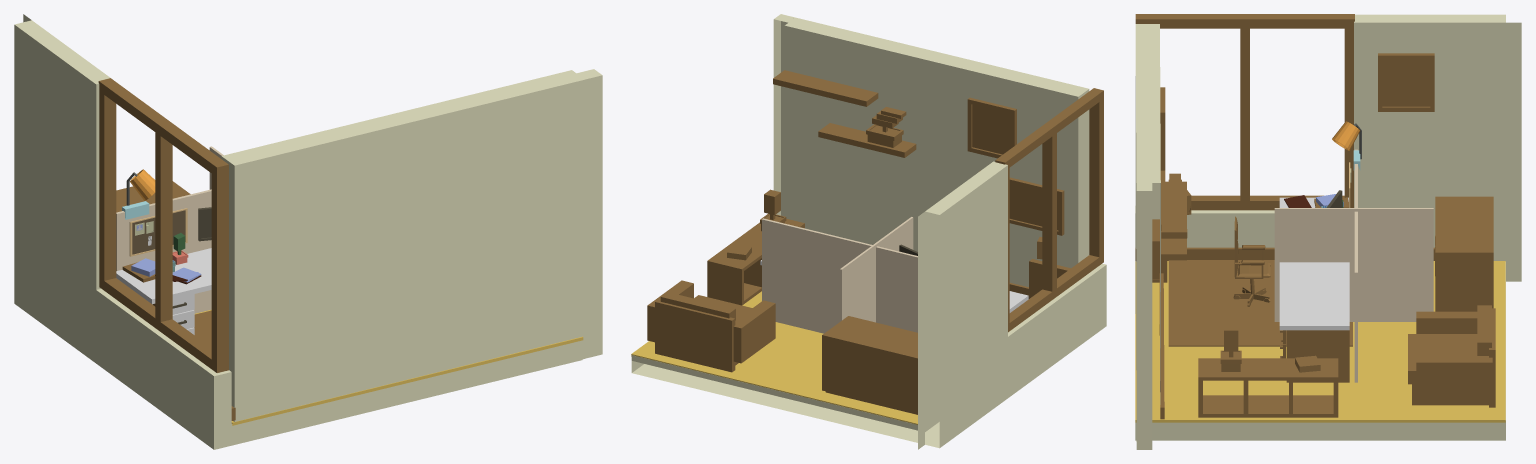
File: 桌前场景5.14.fbx
The picture shows the model from 3 angles, left to right: view 1: azimuth 30°, elevation 25°; view 2: azimuth 150°, elevation 25°; view 3: azimuth 270°, elevation 25°; orthographic projection. The views are drawn at different scales.
Parts seen in each view (by area): view 1: 地板.002, 地板, 窗户, 平面, Cube.006.43, 地板.001, 平面.004, Cube.006.42; view 2: 地板.002, 地板, 平面, 窗户, Cube.006.42, 地板.001, Cube.006.53, Cube.006.57, 平面.001, Cube.006.4, Cube.006.15, Cube.006.54 (+6 smaller); view 3: 地板, 地板.001, 平面.001, 地板.002, 地毯, 窗户, Cube.006.42, Cube.006.57, Cube.006.018, Cube.006.56, Cube.006.19, Cube.006.55 (+14 smaller).
Boxes of the visible parts, x1=… form: 地板.002: x1=221, y1=69, x2=602, y2=421; 地板: x1=14, y1=14, x2=582, y2=449; 窗户: x1=98, y1=78, x2=228, y2=372; 平面: x1=116, y1=189, x2=211, y2=313; Cube.006.43: x1=116, y1=248, x2=211, y2=304; 地板.001: x1=194, y1=309, x2=583, y2=425; 平面.004: x1=132, y1=210, x2=185, y2=254; Cube.006.42: x1=116, y1=181, x2=190, y2=212; 地板.002: x1=773, y1=14, x2=1089, y2=286; 地板: x1=631, y1=161, x2=1106, y2=449; 平面: x1=762, y1=218, x2=917, y2=333; 窗户: x1=995, y1=88, x2=1103, y2=332; Cube.006.42: x1=822, y1=316, x2=917, y2=413; 地板.001: x1=631, y1=291, x2=917, y2=424; Cube.006.53: x1=655, y1=299, x2=735, y2=372; Cube.006.57: x1=707, y1=218, x2=804, y2=305; 平面.001: x1=840, y1=217, x2=913, y2=322; Cube.006.4: x1=967, y1=97, x2=1016, y2=158; Cube.006.15: x1=979, y1=170, x2=1064, y2=235; Cube.006.54: x1=733, y1=300, x2=775, y2=363; 地板: x1=1135, y1=14, x2=1521, y2=440; 地板.001: x1=1135, y1=261, x2=1505, y2=422; 平面.001: x1=1274, y1=208, x2=1433, y2=321; 地板.002: x1=1135, y1=24, x2=1160, y2=449; 地毯: x1=1168, y1=260, x2=1352, y2=346; 窗户: x1=1135, y1=14, x2=1354, y2=210; Cube.006.42: x1=1435, y1=196, x2=1493, y2=311; Cube.006.57: x1=1198, y1=358, x2=1338, y2=417; Cube.006.018: x1=1279, y1=262, x2=1349, y2=330; Cube.006.56: x1=1416, y1=356, x2=1492, y2=401; Cube.006.19: x1=1378, y1=53, x2=1434, y2=111; Cube.006.55: x1=1408, y1=305, x2=1491, y2=405.
Bounding box in the file's own units: 527 × 364 × 489.
